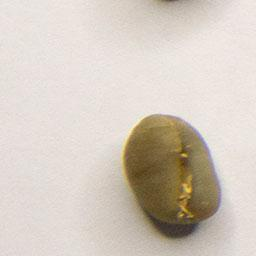peaberry: (121, 110, 224, 230)
